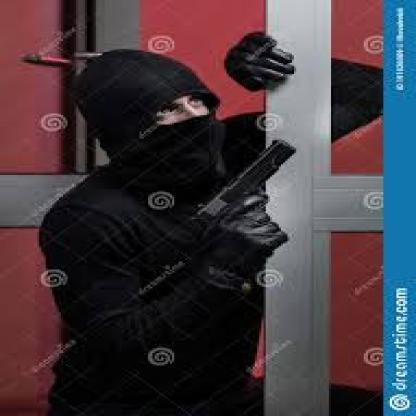criminal: (38, 31, 383, 416)
weapon: (193, 138, 297, 256)
